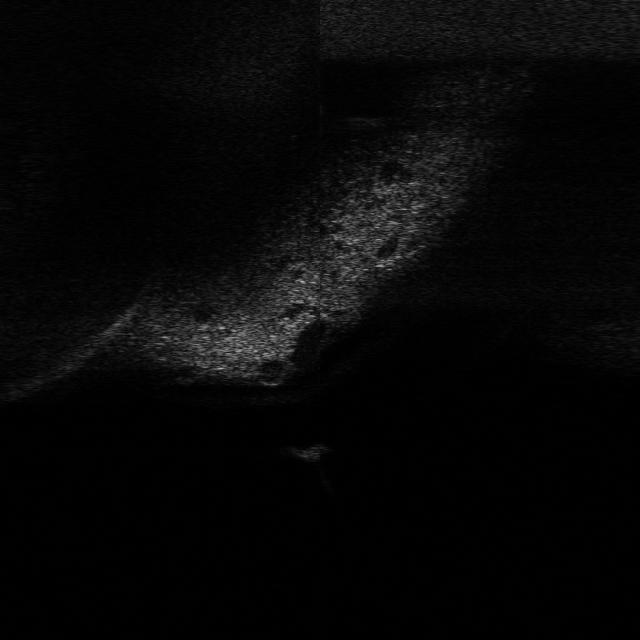cube: (282, 438, 332, 467)
